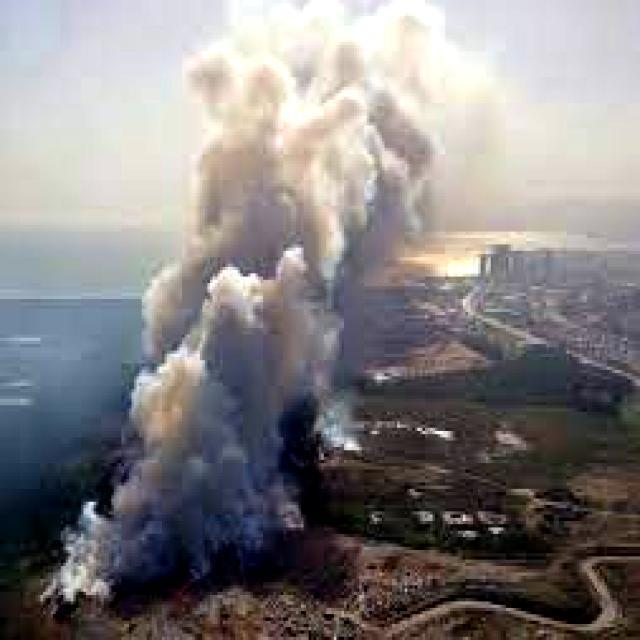Smoke: (68, 0, 529, 576)
